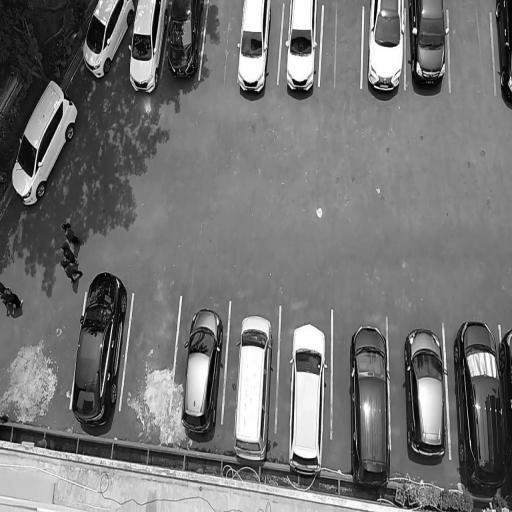Car: (454, 304, 509, 512), (68, 266, 130, 431), (10, 73, 78, 211), (348, 321, 394, 495), (401, 314, 449, 462), (285, 308, 326, 477), (230, 313, 276, 463), (182, 303, 225, 444), (363, 0, 405, 107), (410, 0, 448, 112), (127, 0, 166, 93), (81, 0, 128, 77), (285, 0, 321, 100), (236, 0, 271, 100), (164, 0, 201, 92), (494, 0, 512, 105)
Space Available: (134, 283, 170, 429), (452, 4, 490, 95), (324, 0, 360, 93), (208, 0, 236, 88)
